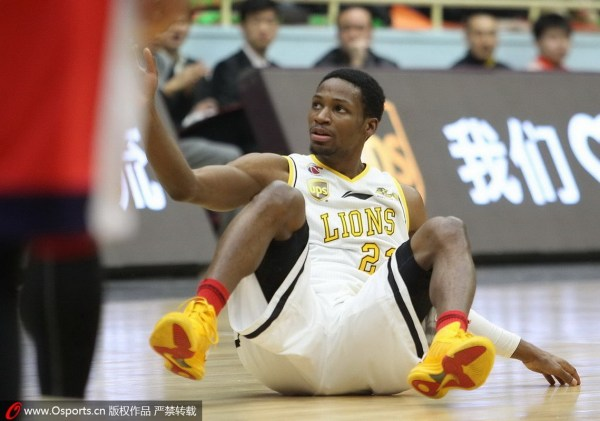fall: (126, 56, 596, 403)
